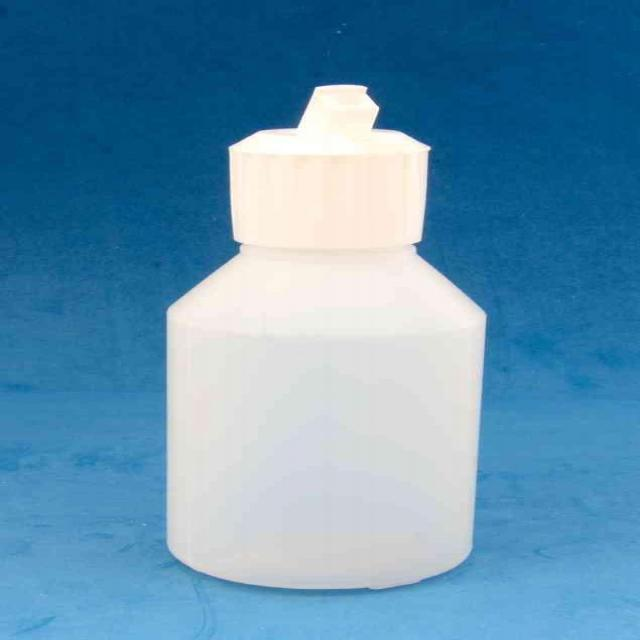plastic_bag: (149, 81, 507, 581)
